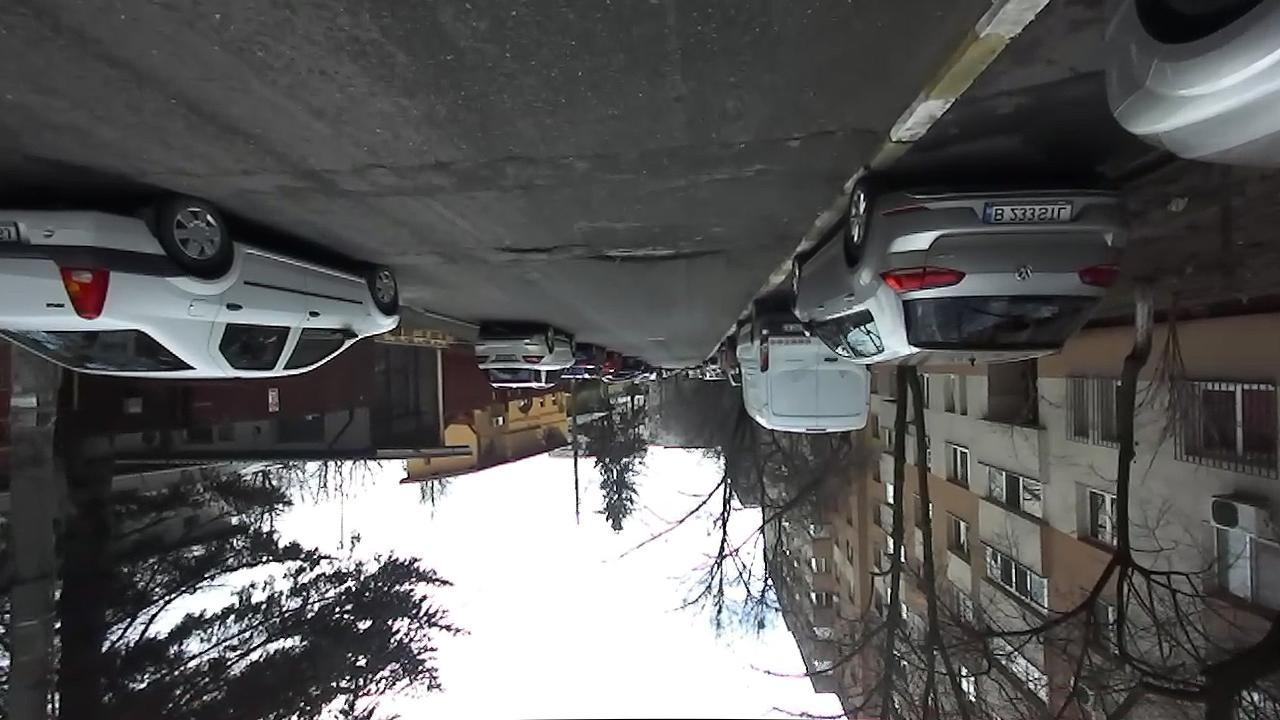pothole: (585, 244, 726, 268), (773, 121, 874, 152), (491, 243, 576, 258)
